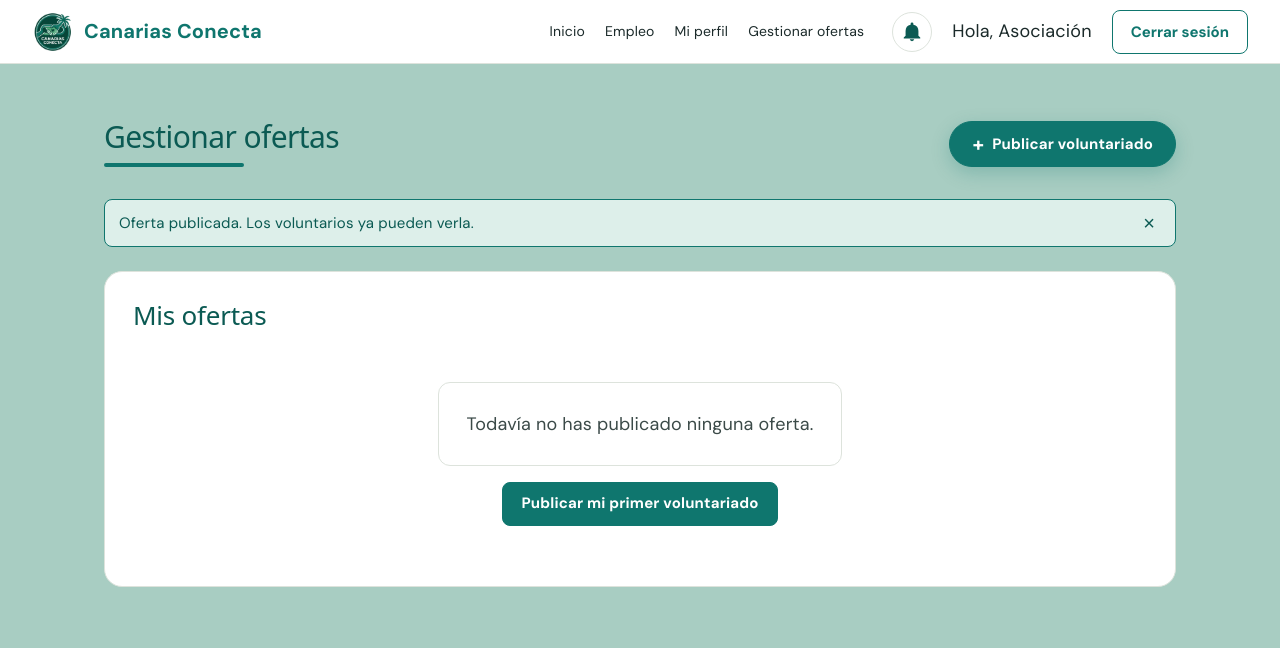
Test: GestionarOfertas › muestra el aviso de oferta publicada al volver de publicar
The image size is (1280, 648).
Expected: the message shows "Oferta publicada", [119,212,474,232]
Click the button named "Cerrar aviso" at (1149, 222), box [1137,212,1161,234]
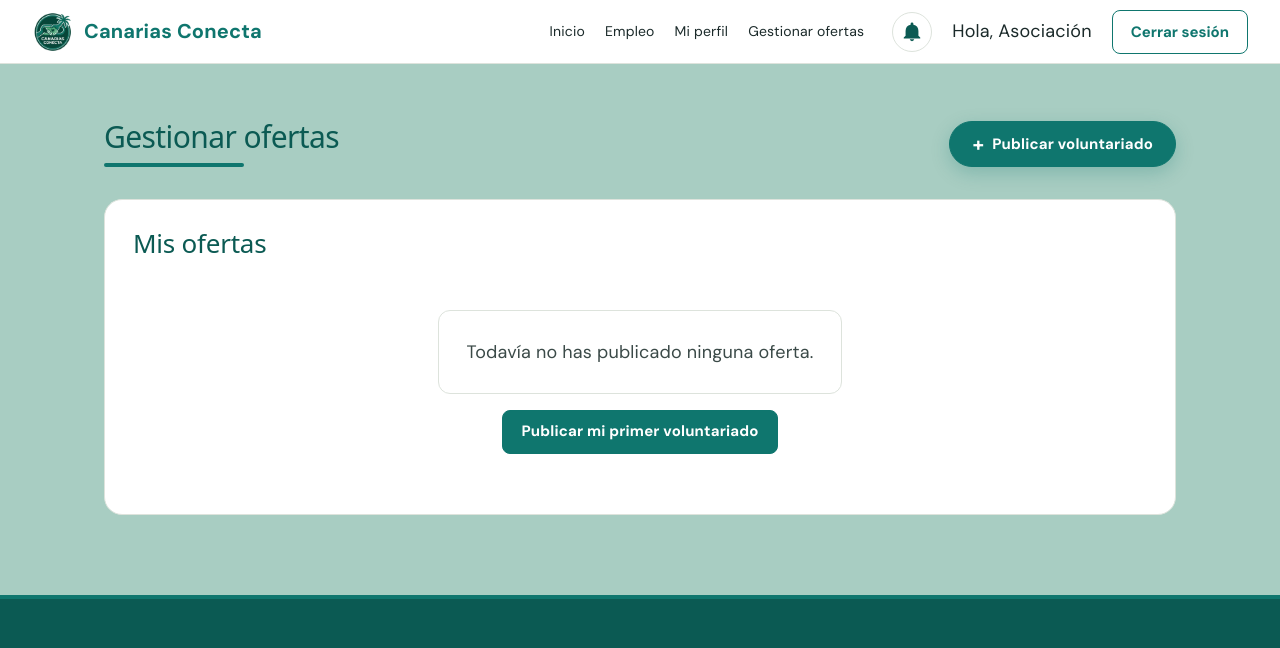
Expected: the message "Oferta publicada. Los voluntarios ya pueden verla. ×" is gone
